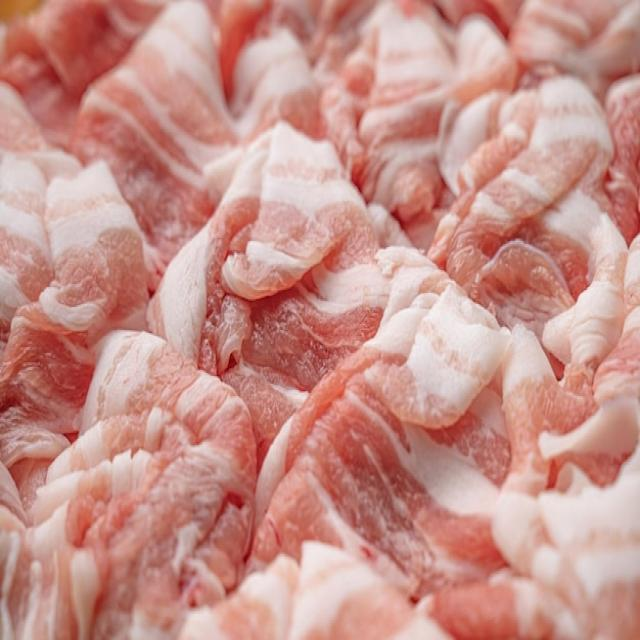Pork: (13, 303, 260, 640), (437, 77, 640, 373), (183, 120, 401, 382)
